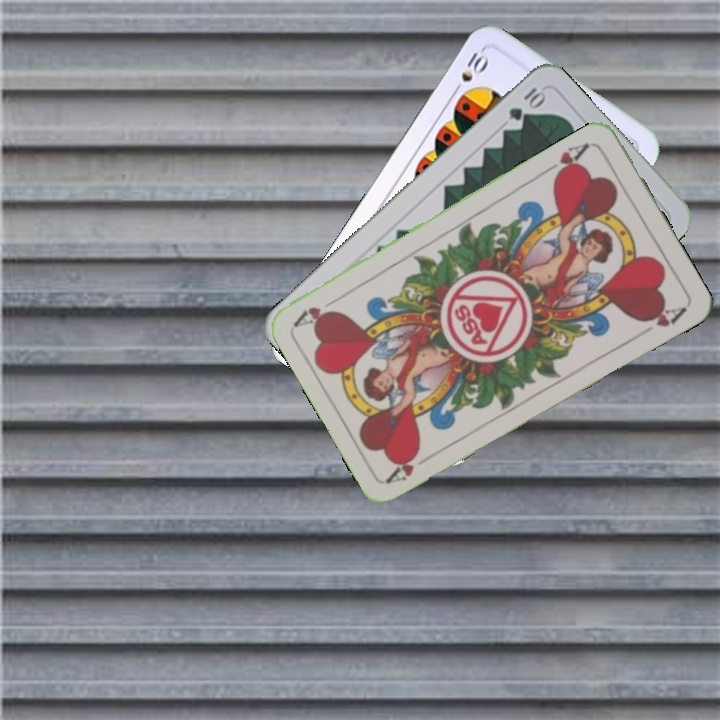G10: (504, 83, 548, 124)
HA: (540, 138, 593, 182), (383, 444, 438, 486)
S10: (448, 44, 492, 101)
